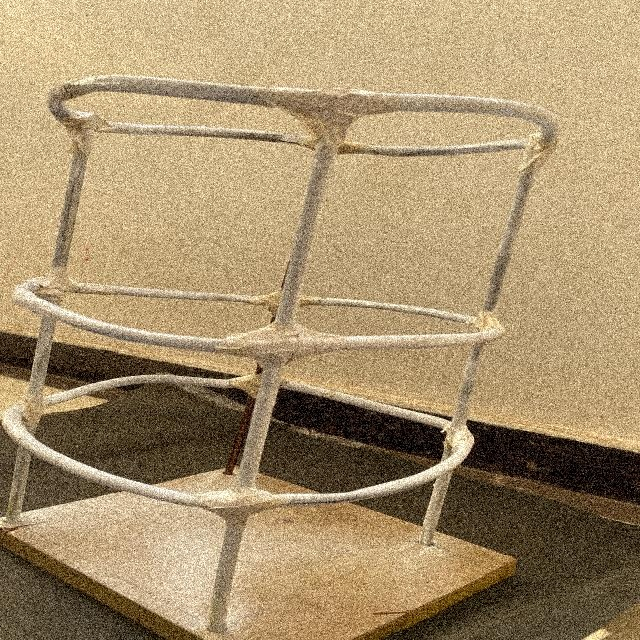silo: (23, 63, 549, 639)
